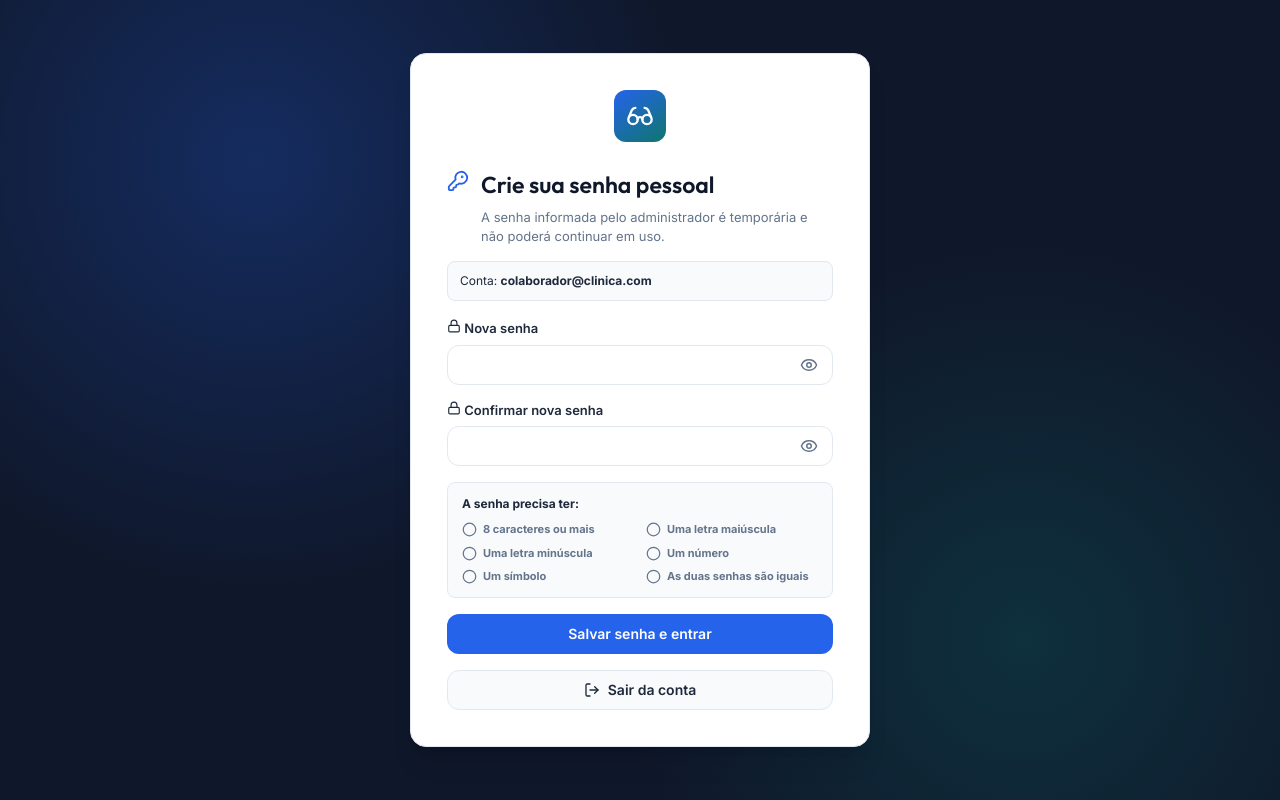
Test: ForcedPasswordChange › não redefine a senha quando a confirmação estiver diferente
The image size is (1280, 800).
Type "NovaSenha#123" into the password field labelled "Nova senha" at (640, 365), box [447,345,833,385]
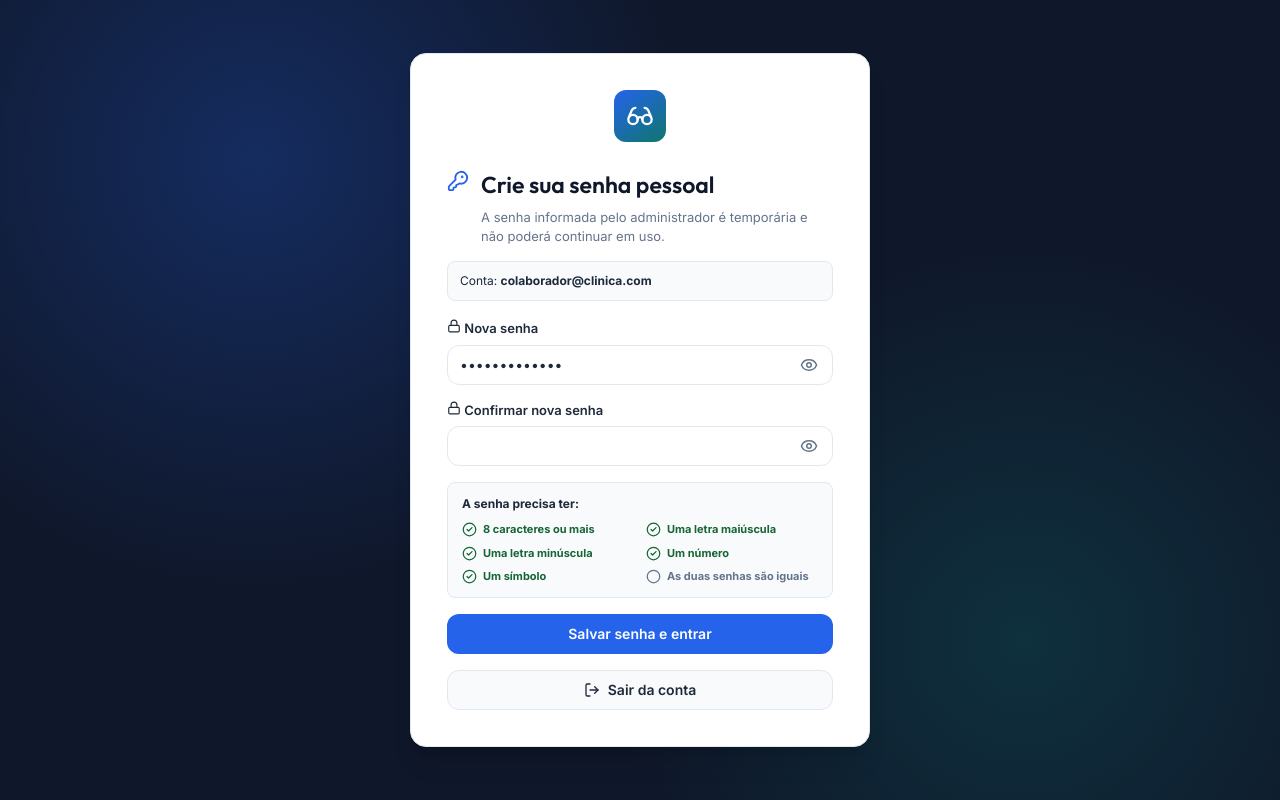
Type "OutraSenha#456" into the password field labelled "Confirmar nova senha" at (640, 446), box [447,426,833,466]
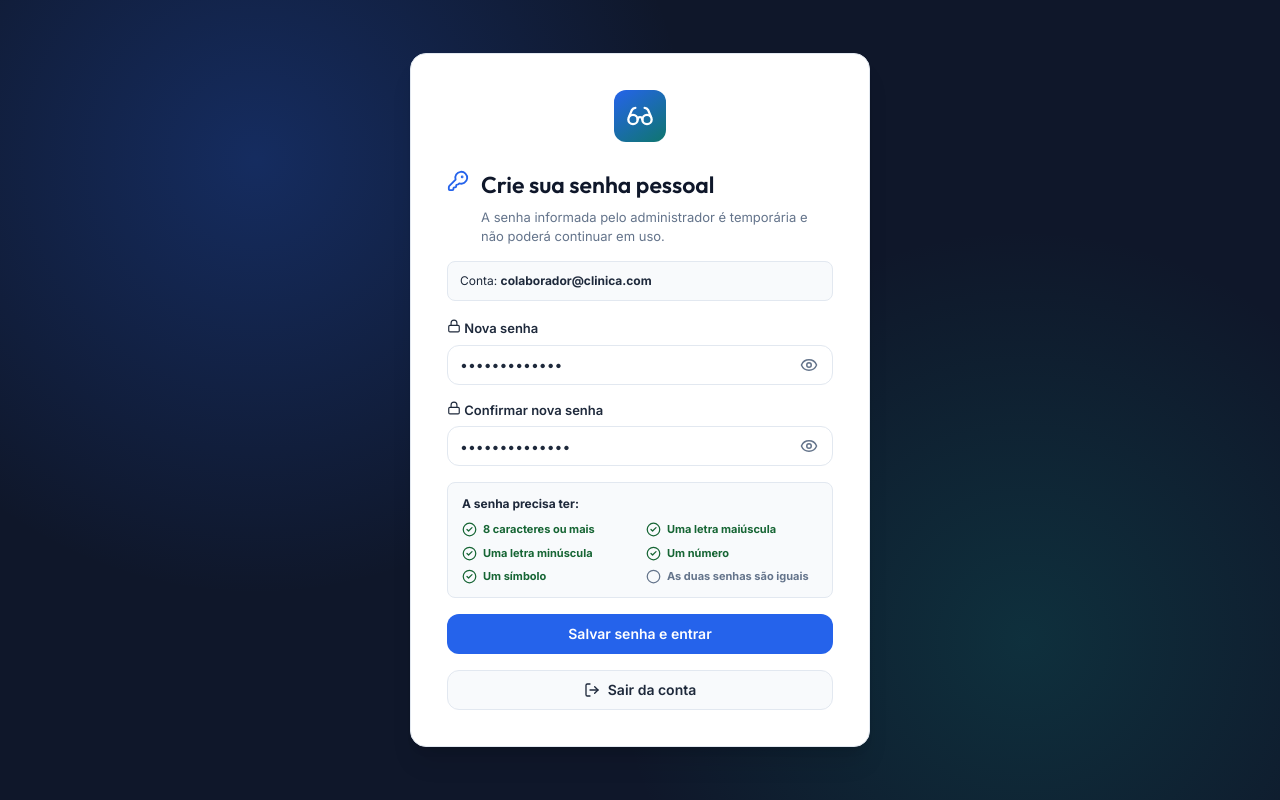
Click the button "Salvar senha e entrar" at (640, 634), box [447,614,833,654]
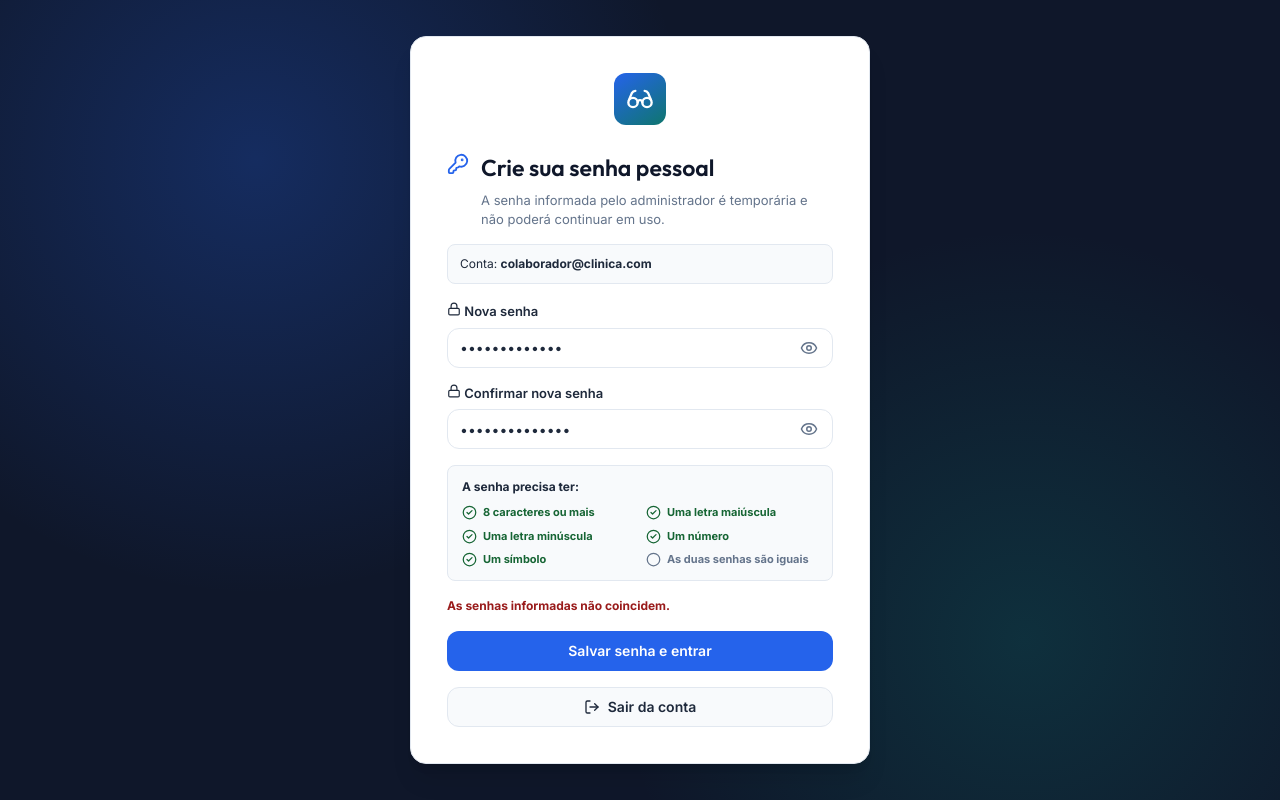
Check: the message reads "As senhas informadas não coincidem.", box [447,598,670,613]
